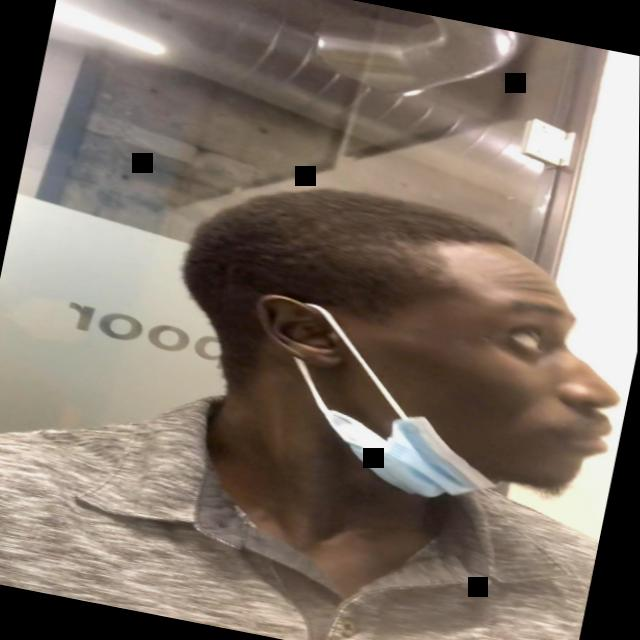NO-Mask: (220, 203, 639, 504)
